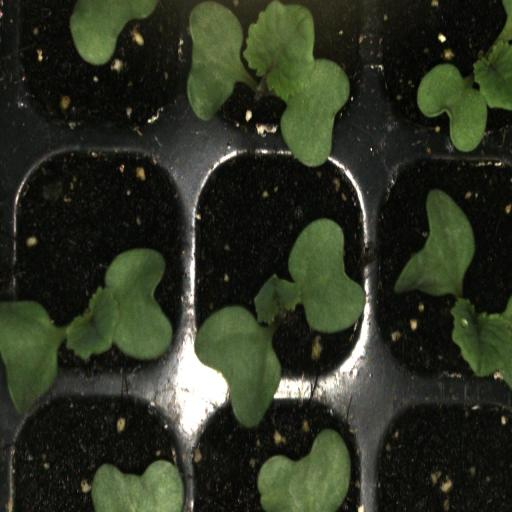Folha: (417, 0, 512, 153), (257, 429, 351, 512), (70, 0, 157, 66), (91, 459, 187, 512)
Germinacao: (4, 146, 190, 388), (191, 146, 371, 386), (373, 145, 512, 388), (188, 2, 373, 142)
